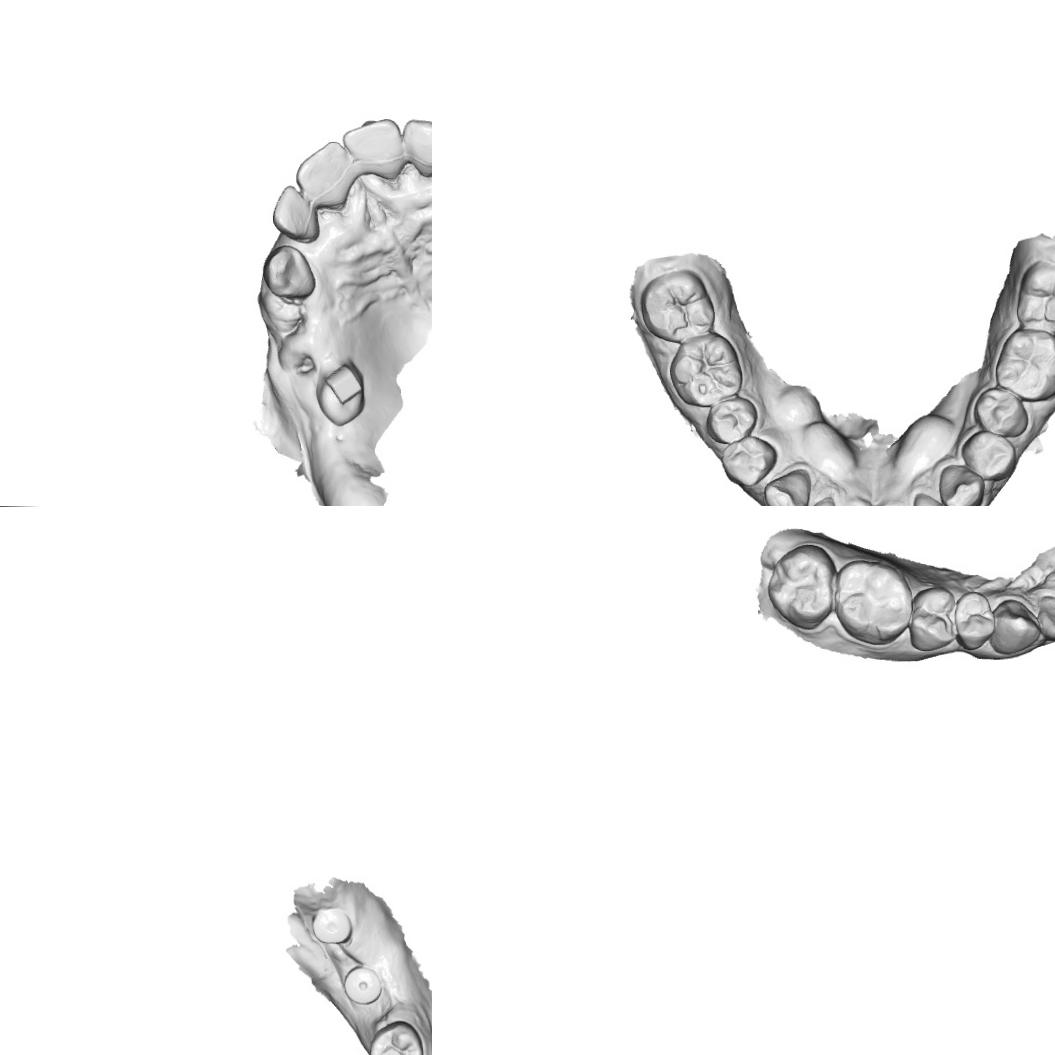canine: (260, 243, 316, 301), (990, 598, 1042, 655), (936, 462, 986, 506), (760, 466, 812, 506)
implant: (310, 906, 354, 946), (342, 964, 383, 1006)
incisor: (291, 138, 351, 211), (340, 117, 405, 182), (270, 182, 321, 244), (402, 116, 432, 179), (1035, 593, 1055, 641), (909, 489, 956, 506)
molar: (833, 556, 915, 646), (766, 542, 838, 630), (668, 330, 745, 408), (639, 268, 717, 342), (993, 327, 1055, 403), (1013, 258, 1055, 337)
premolar: (970, 383, 1030, 439), (908, 585, 956, 653), (958, 429, 1019, 482), (717, 435, 778, 488), (699, 395, 760, 446), (954, 590, 996, 652), (367, 1019, 424, 1055)
